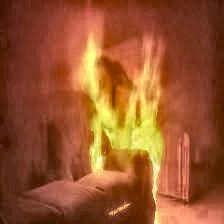fire: (88, 20, 169, 150)
